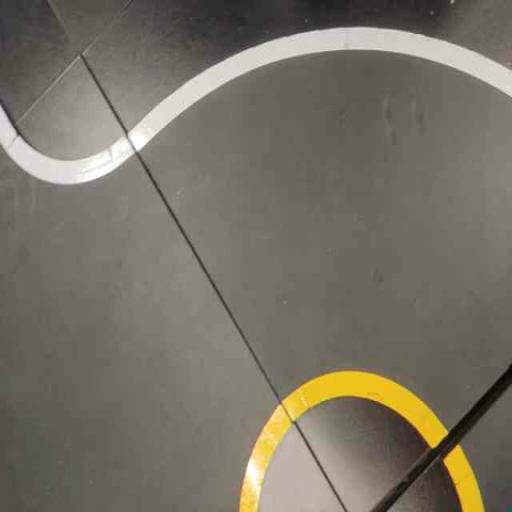left: (119, 18, 511, 511)
